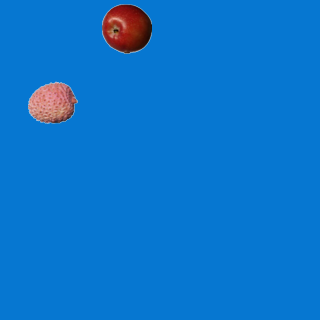Apple Braeburn: (101, 3, 151, 53)
Lychee: (27, 77, 77, 127)
